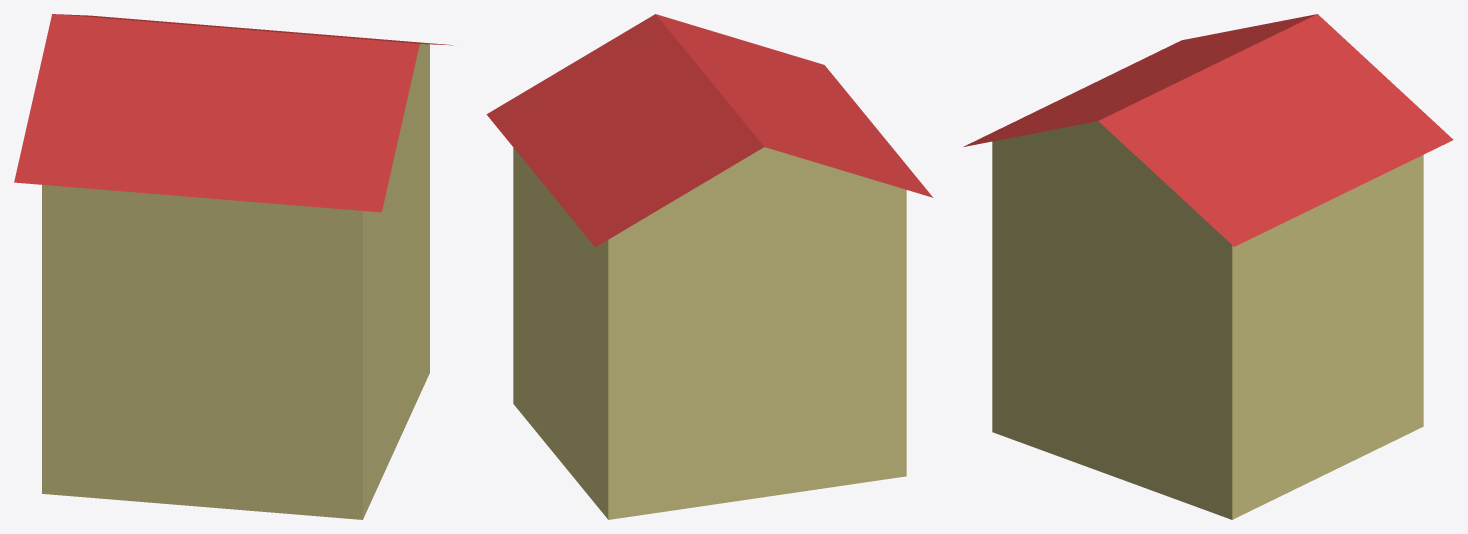
The picture shows the model from 3 angles, left to right: view 1: azimuth 30°, elevation 25°; view 2: azimuth 150°, elevation 25°; view 3: azimuth 270°, elevation 25°; orthographic projection. The views are drawn at different scales.
Parts seen in each view (by area): view 1: group_5, group_3, group_4; view 2: group_5, group_3, group_4; view 3: group_5, group_3, group_4.
Part boxes in pixels (bbox=[...]): group_5: bbox=[42, 44, 429, 519]; group_3: bbox=[14, 14, 426, 212]; group_4: bbox=[14, 14, 452, 212]; group_5: bbox=[513, 147, 906, 519]; group_3: bbox=[513, 14, 933, 226]; group_4: bbox=[486, 14, 932, 247]; group_5: bbox=[992, 121, 1423, 519]; group_3: bbox=[993, 15, 1430, 242]; group_4: bbox=[963, 14, 1453, 246].
Size of the model in its own units: 17.19 by 17.28 by 14.03.
